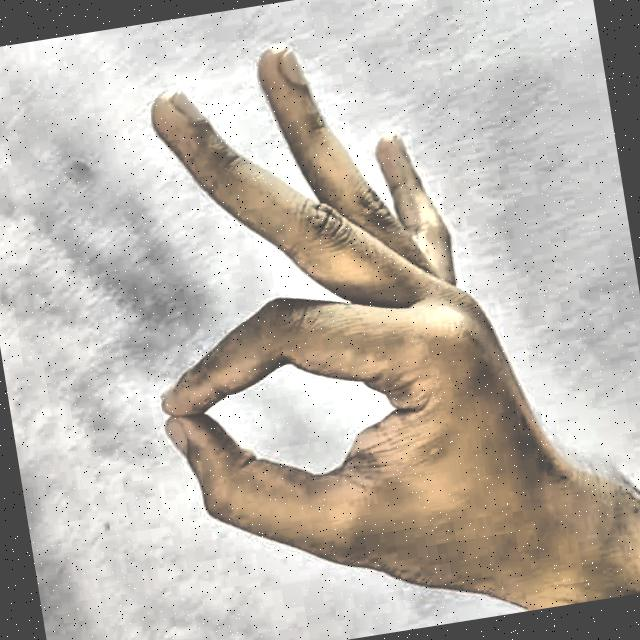Ca: (68, 0, 634, 640)
